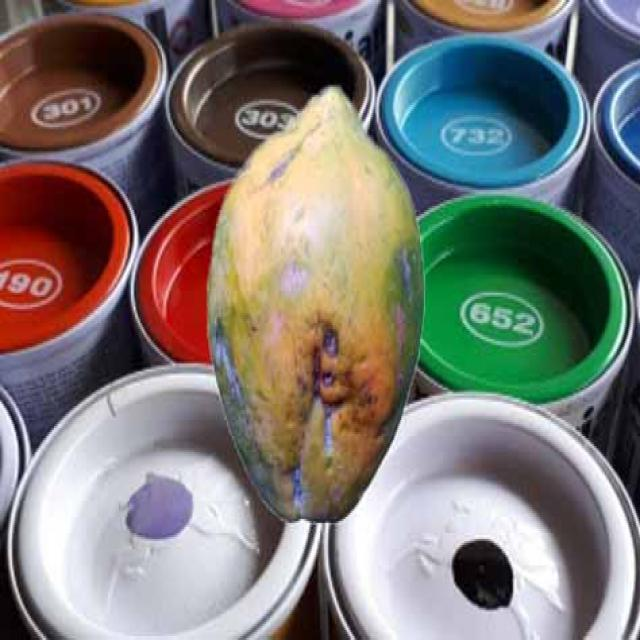Pepaya rippen: (204, 81, 429, 535)
